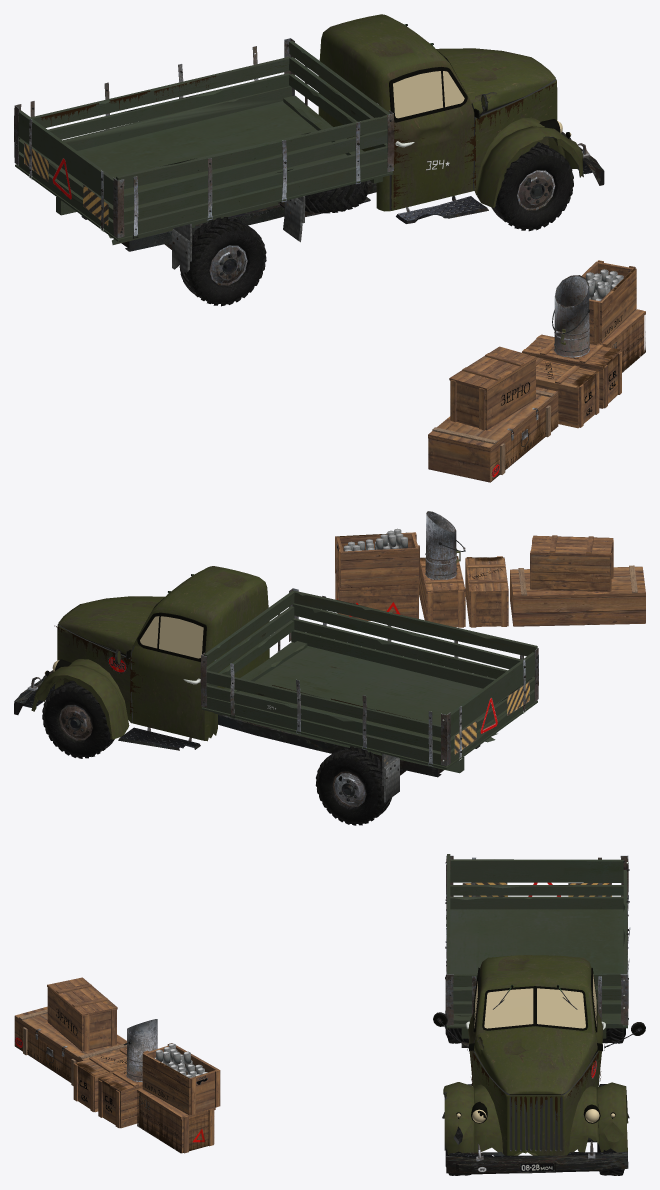
File: gas_51_military_vehicle.glb
3 renders of one model, top to bottom at view 1: azimuth 30°, elevation 25°; view 2: azimuth 150°, elevation 25°; view 3: azimuth 270°, elevation 25°, orthographic. The views are drawn at different scales.
Visible parts, largest first — view 1: GAS_51-2.004_89, GAS_51-2.001_86, GAS_51-2.011_96, Cube.004_27, GAS_51-2.009_94, Cube.007_28, GAS_51-2.012_97, Cube_23, Cylinder.006_41, GAS_51-2_85, Cube.003_26, Cube.001_24 (+8 smaller); view 2: GAS_51-2.004_89, GAS_51-2.001_86, Cube.004_27, Cube.007_28, Cube.003_26, GAS_51-2.011_96, GAS_51-2.009_94, Cube_23, GAS_51-2.012_97, Cube.001_24, GAS_51-2.005_90, GAS_51-2_85 (+7 smaller); view 3: GAS_51-2.001_86, GAS_51-2.004_89, Cube.004_27, GAS_51-2_85, Cube.003_26, GAS_51-2.005_90, Cube.002_25, Cube.001_24, Cube_23, GAS_51-2.012_97, Cube.007_28, GAS_51-2.002_87 (+6 smaller).
Part boxes in pixels (x1,y1,x2,y2): GAS_51-2.004_89: (15,40,393,244); GAS_51-2.001_86: (318,14,583,211); GAS_51-2.011_96: (133,181,367,306); Cube.004_27: (449,346,536,430); GAS_51-2.009_94: (491,142,573,231); Cube.007_28: (428,396,558,482); GAS_51-2.012_97: (14,38,394,237); Cube_23: (536,357,599,428); Cylinder.006_41: (554,275,589,357); GAS_51-2_85: (29,24,584,244); Cube.003_26: (582,260,636,343); Cube.001_24: (522,334,621,408); GAS_51-2.004_89: (201,590,537,773); GAS_51-2.001_86: (31,566,269,741); Cube.004_27: (530,535,613,591); Cube.007_28: (510,574,645,626); Cube.003_26: (335,532,419,588); GAS_51-2.011_96: (230,714,391,825); GAS_51-2.009_94: (42,680,114,758); Cube_23: (465,556,508,627); GAS_51-2.012_97: (200,588,538,766); Cube.001_24: (419,557,465,627); GAS_51-2.005_90: (14,670,480,777); GAS_51-2_85: (36,574,525,770); GAS_51-2.001_86: (443,955,628,1155); GAS_51-2.004_89: (446,854,627,1038); Cube.004_27: (47,977,117,1051); GAS_51-2_85: (465,862,628,1029); Cube.003_26: (142,1043,220,1115); GAS_51-2.005_90: (446,1042,628,1174); Cube.002_25: (137,1088,215,1153); Cube.001_24: (98,1069,142,1128); Cube_23: (73,1048,126,1112); GAS_51-2.012_97: (446,855,630,1025); Cube.007_28: (14,1019,79,1082); GAS_51-2.002_87: (473,967,597,1032).
Size of the model in its own units: 5.96 by 2.11 by 7.47.
Materials: 30 (19 with a texture image).
